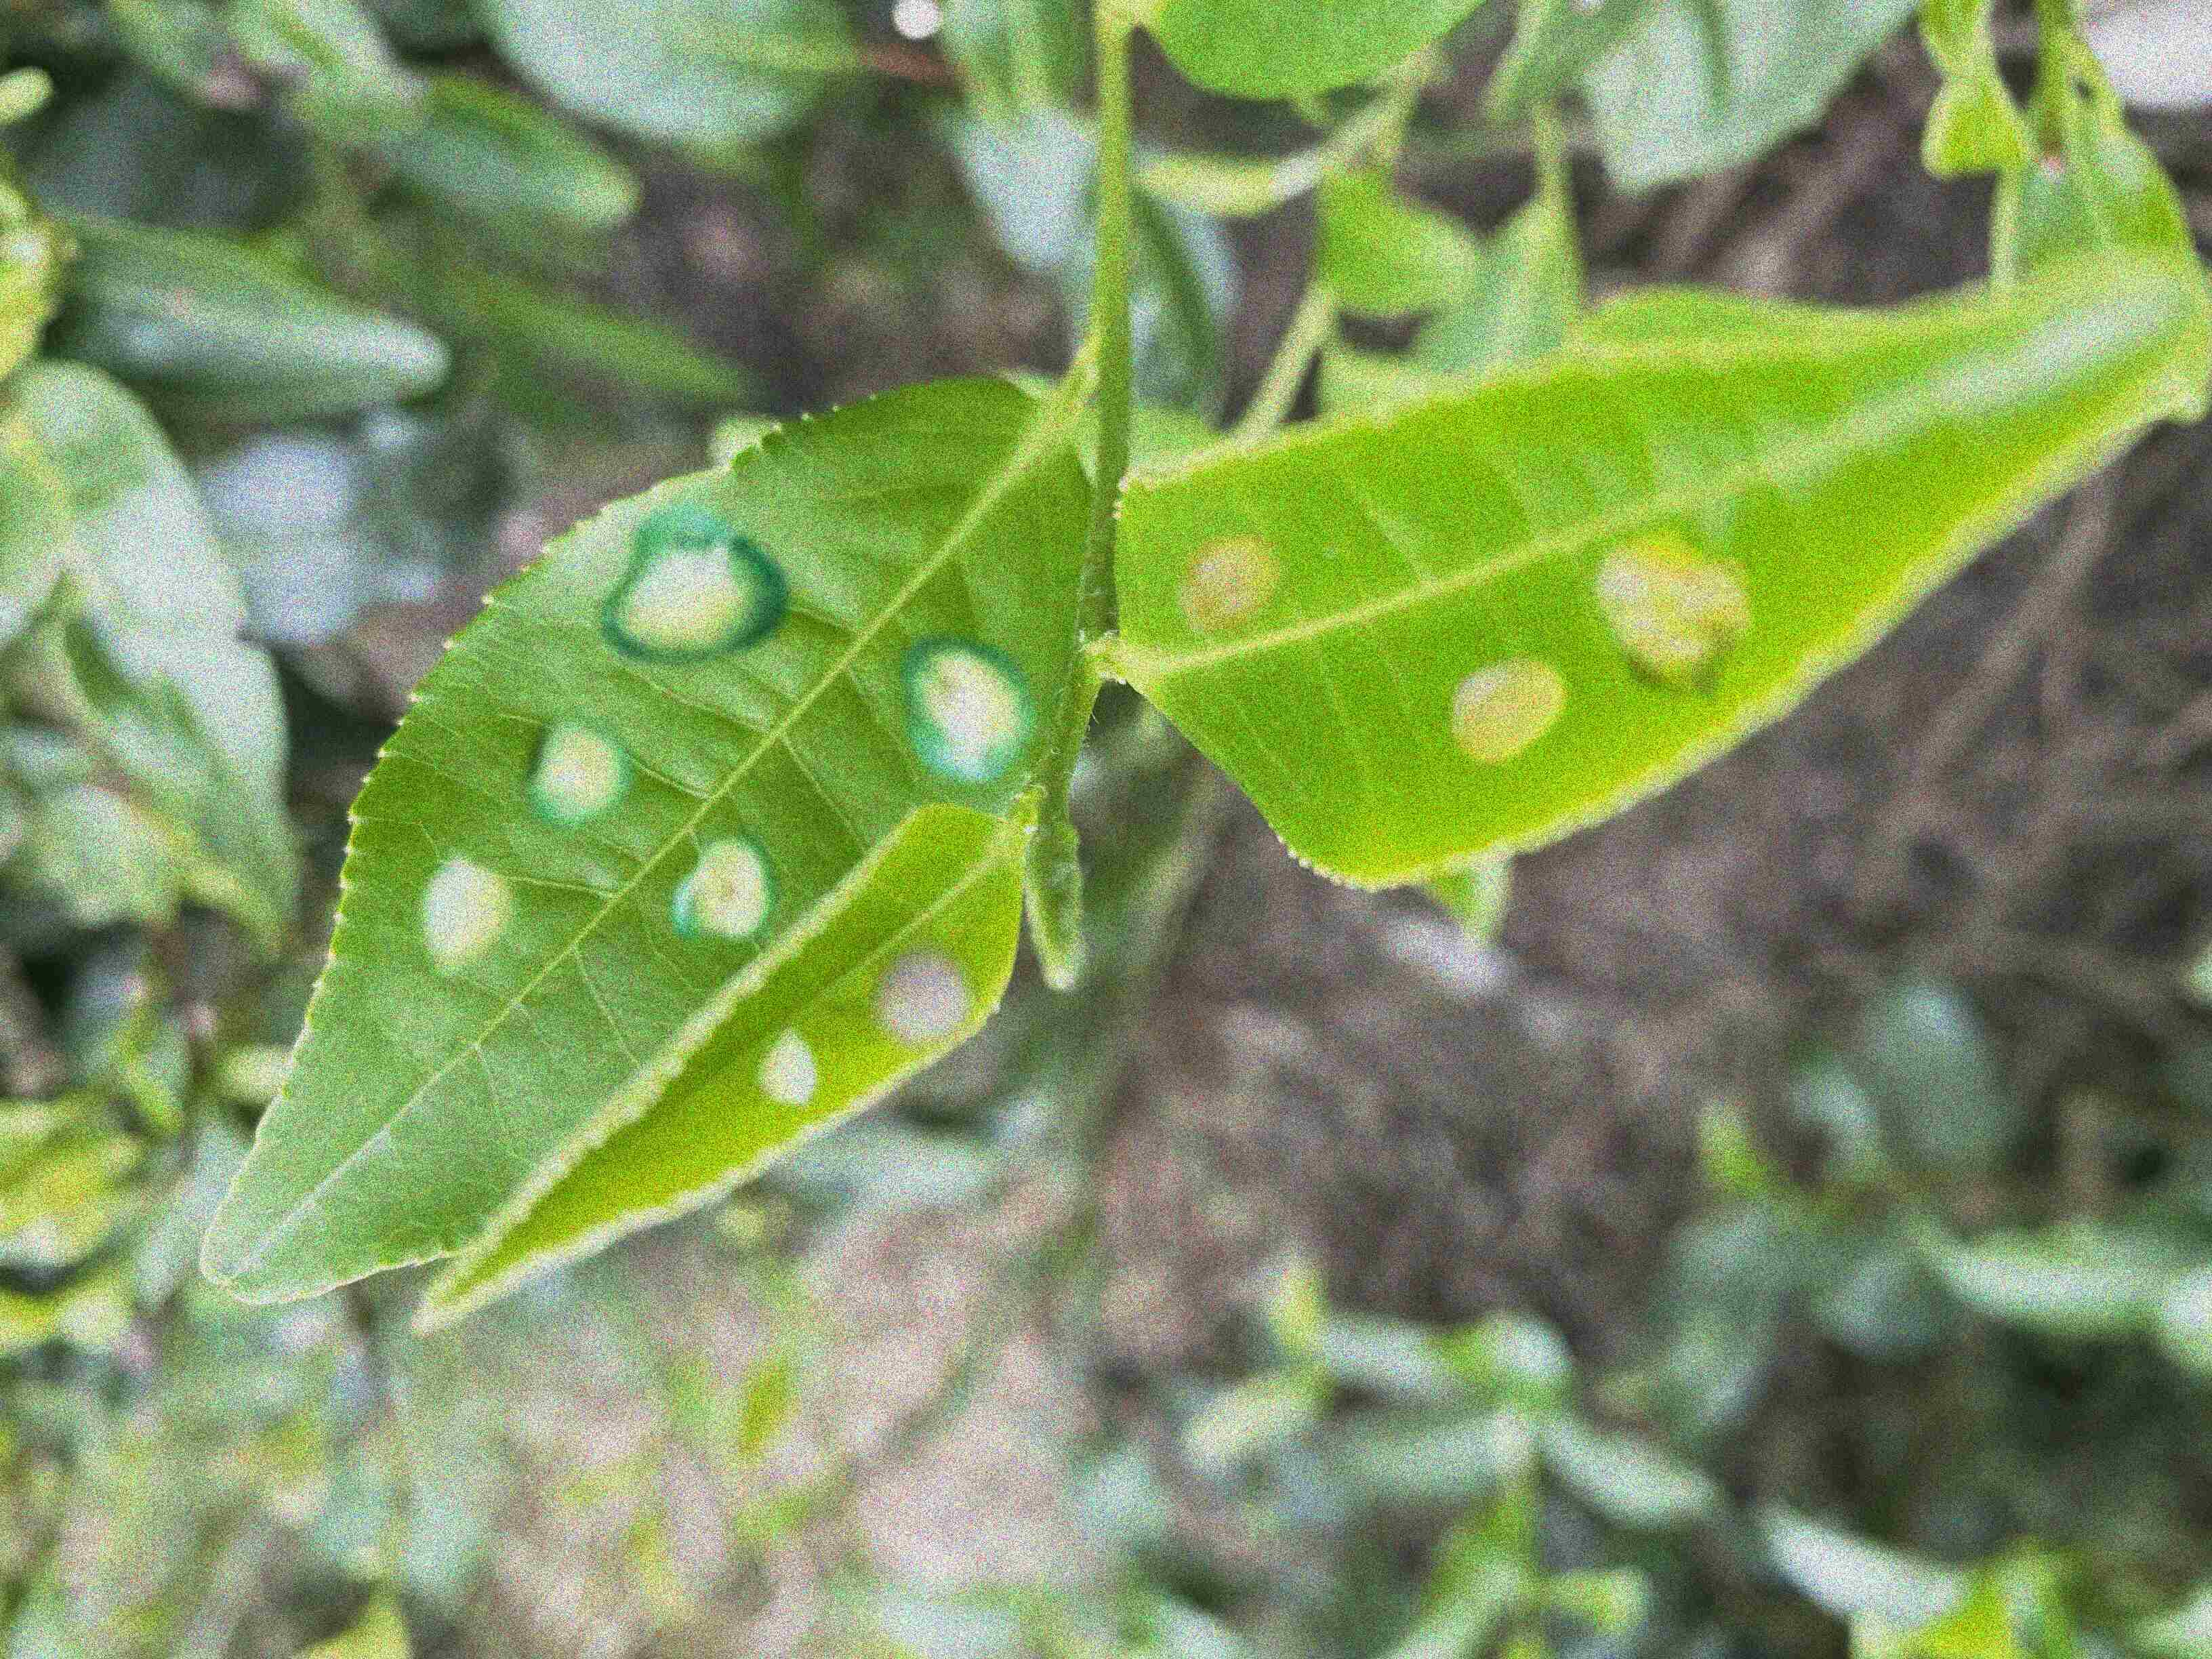chabing_high: (200, 378, 1096, 1309), (1111, 260, 2209, 892), (411, 803, 1036, 1335)
